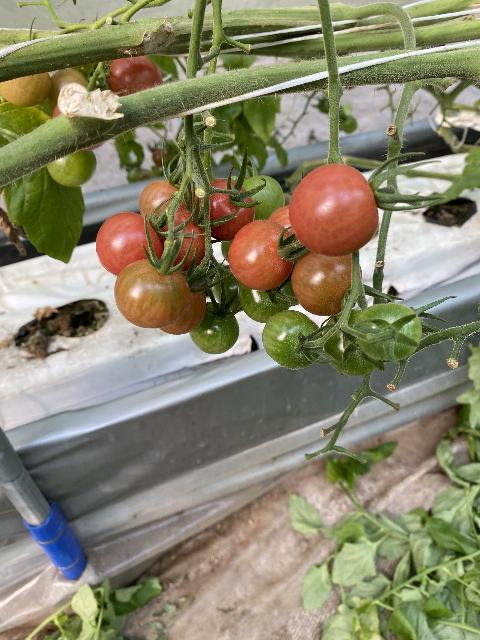l_fully_ripened: (288, 161, 378, 257), (96, 211, 164, 276), (152, 199, 206, 271), (198, 178, 256, 241), (108, 56, 163, 98)
l_green: (324, 309, 385, 376), (354, 302, 421, 361), (261, 309, 323, 370), (188, 302, 239, 354), (237, 281, 292, 323), (47, 150, 97, 188), (243, 176, 285, 221), (212, 267, 243, 313)
l_half_ripened: (114, 260, 189, 330), (228, 219, 296, 291), (292, 252, 362, 316), (158, 272, 207, 334), (139, 180, 200, 222), (47, 69, 94, 110), (0, 72, 50, 107)
